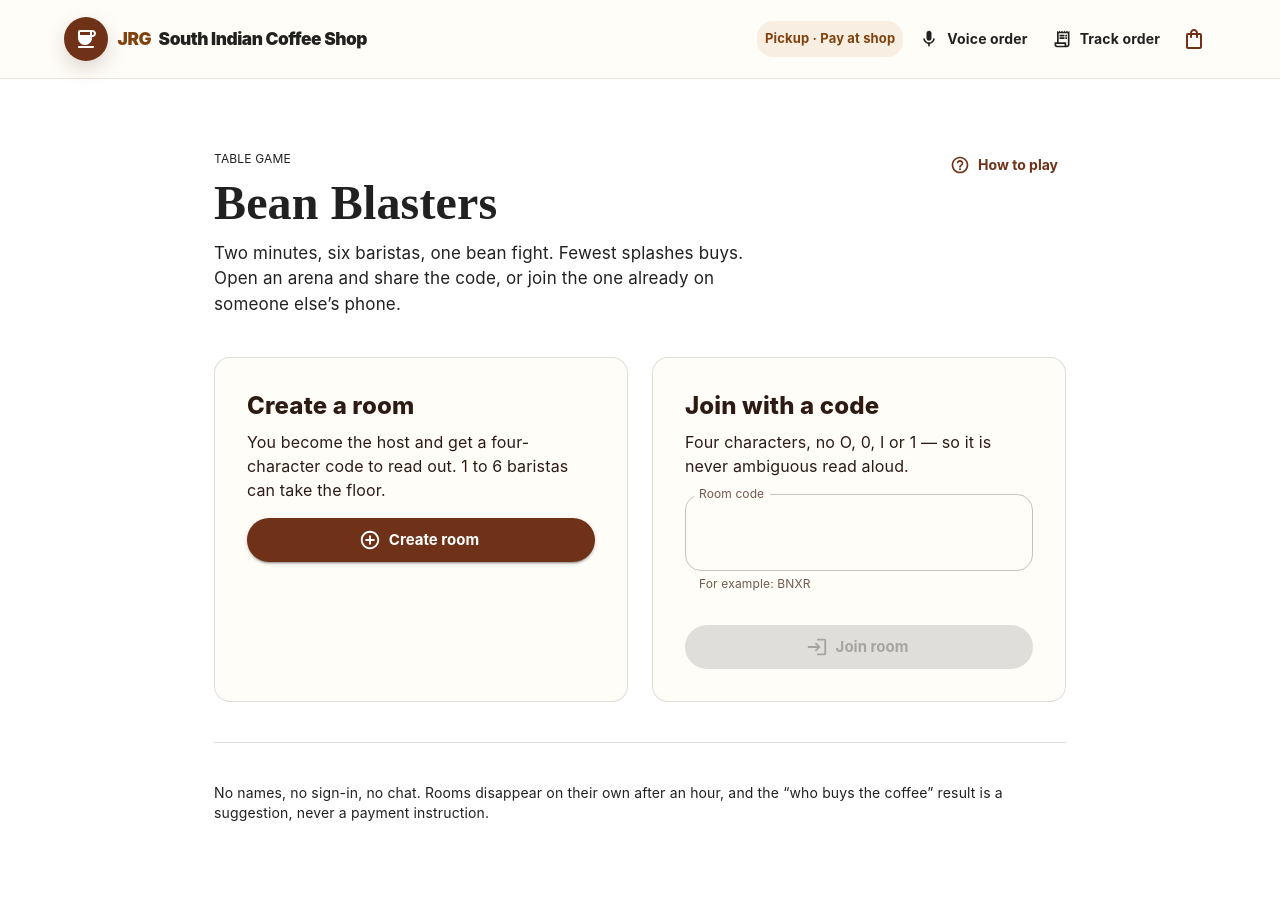
Test: Bean Blasters UI › how to play › can be reopened and records that it was seen
Click the button "How to play" at (1006, 165), box top-left (946, 143), bottom-right (1066, 187)
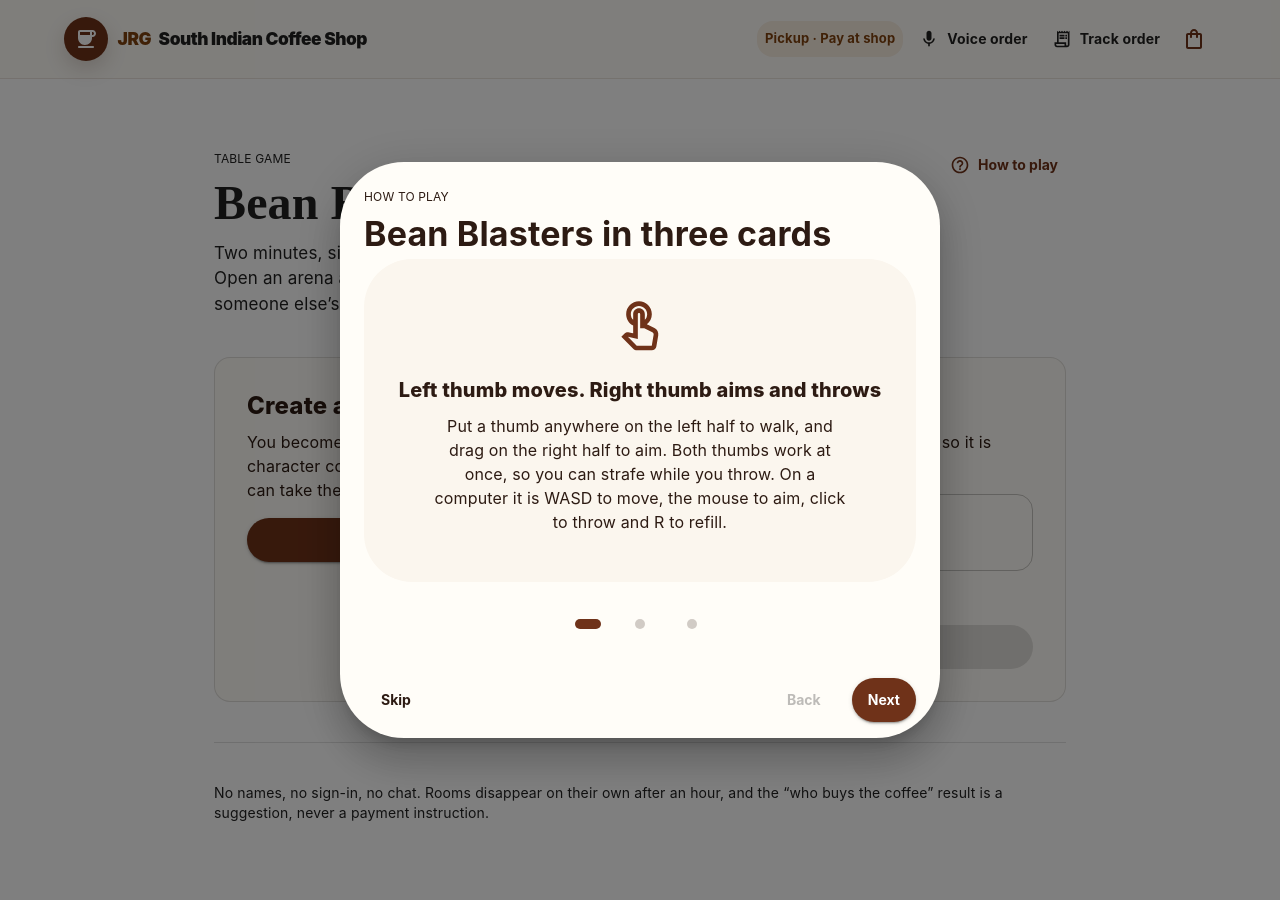
Click the button "Next" at (884, 700), box top-left (852, 678), bottom-right (916, 722)
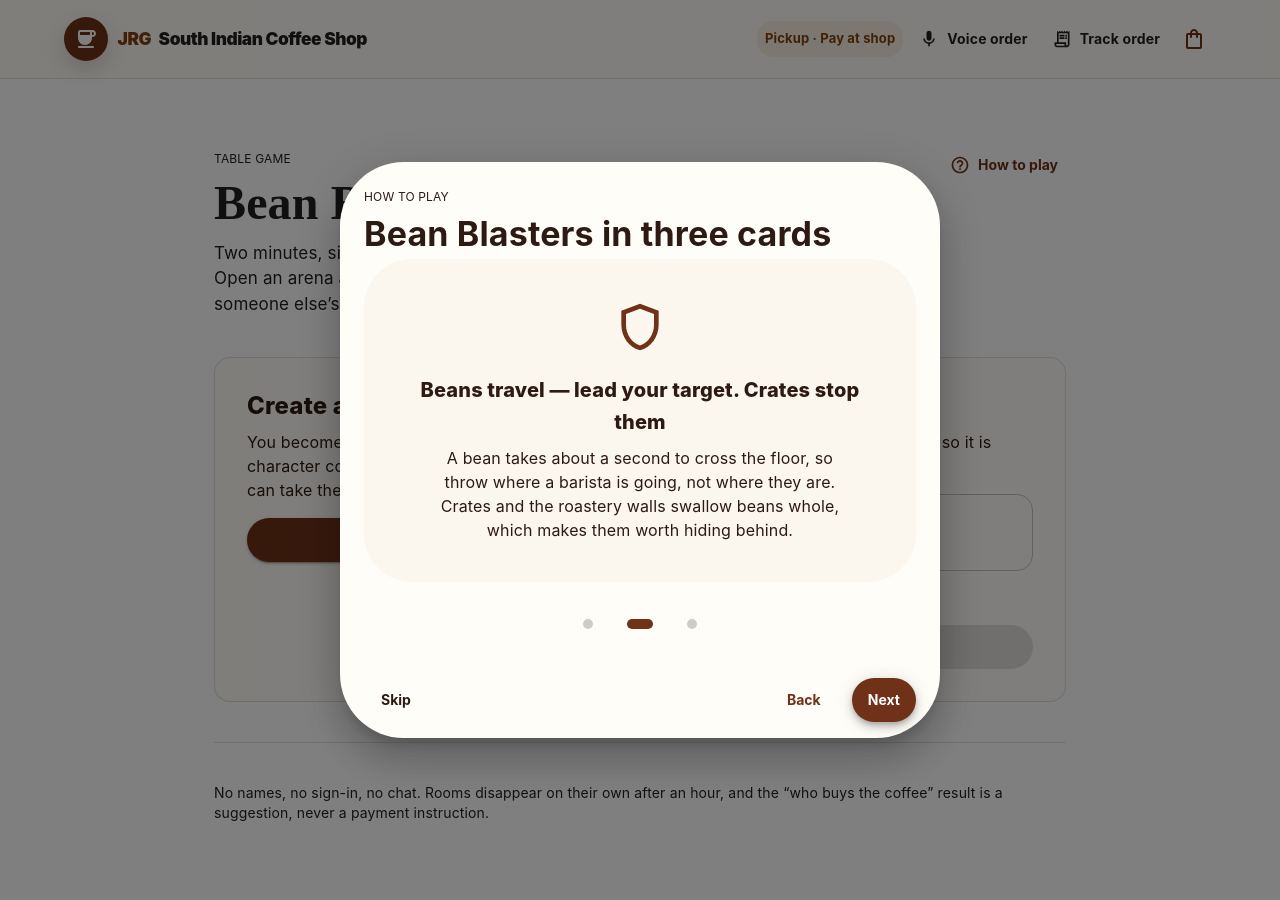
Click the button "Next" at (884, 700), box top-left (852, 678), bottom-right (916, 722)
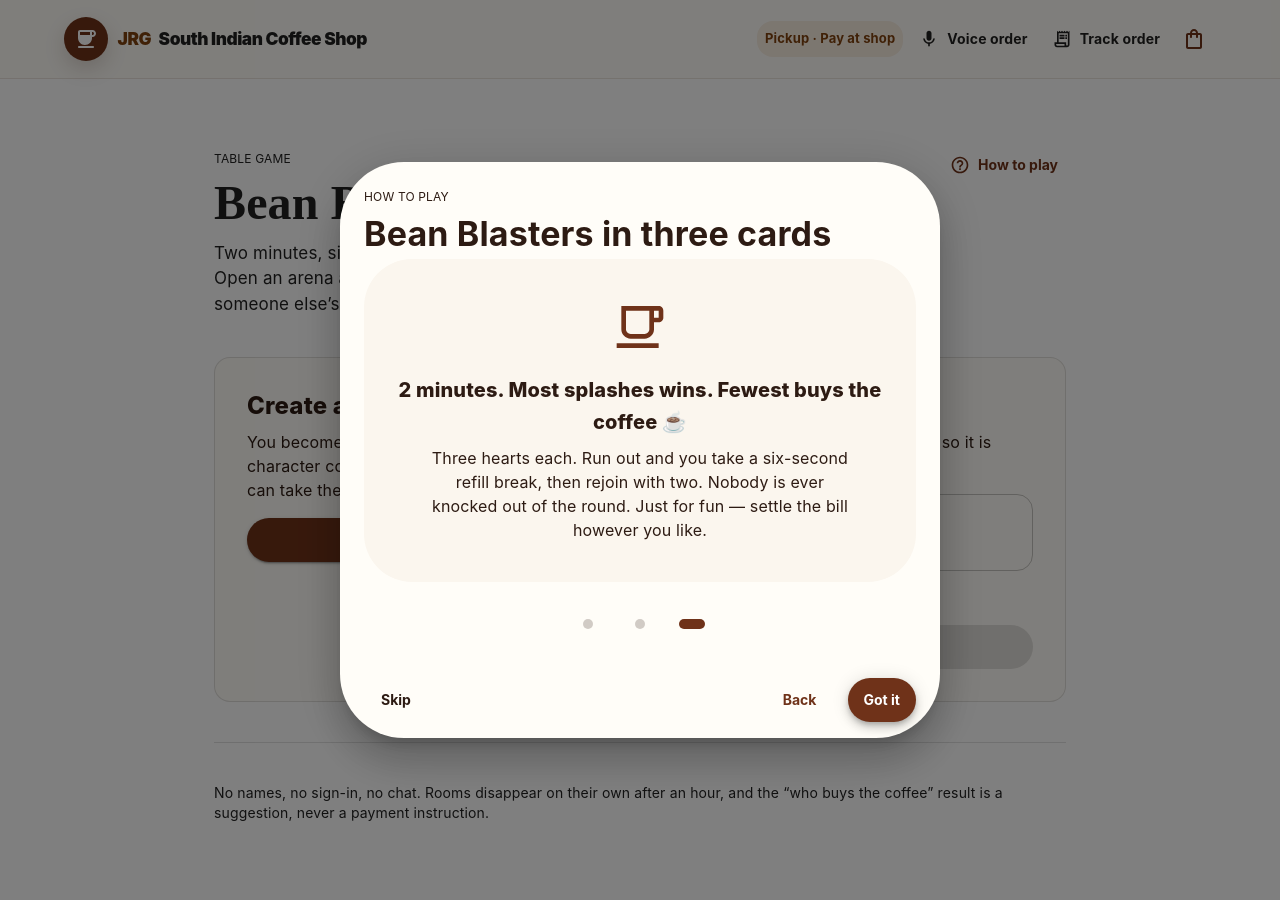
Click the button "Got it" at (882, 700), box top-left (848, 678), bottom-right (916, 722)
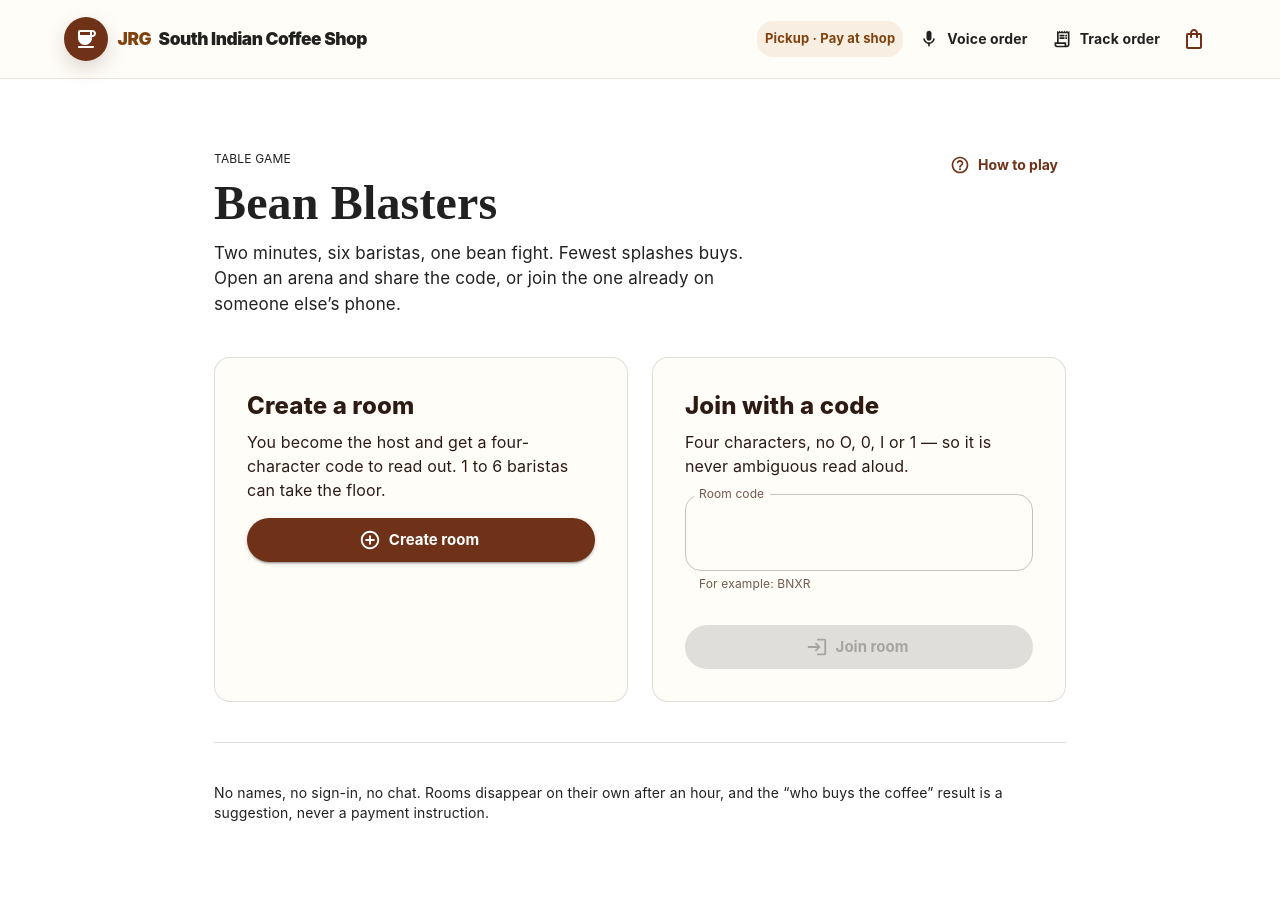
Expected: the dialog is gone
